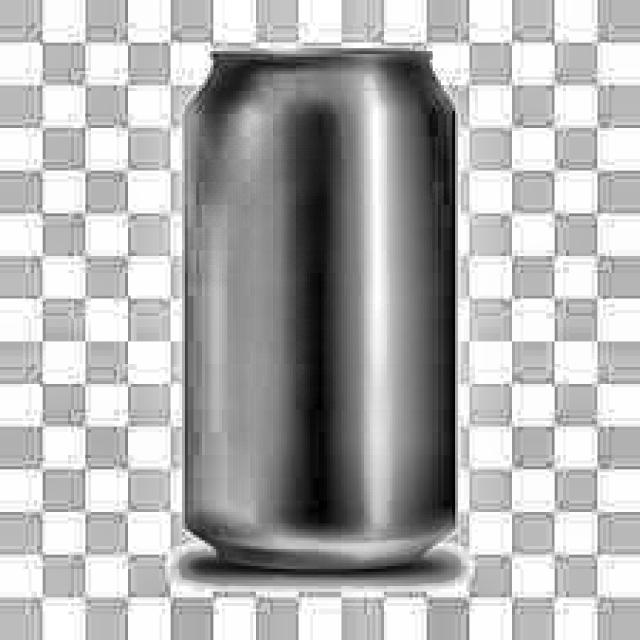can: (176, 38, 474, 585)
